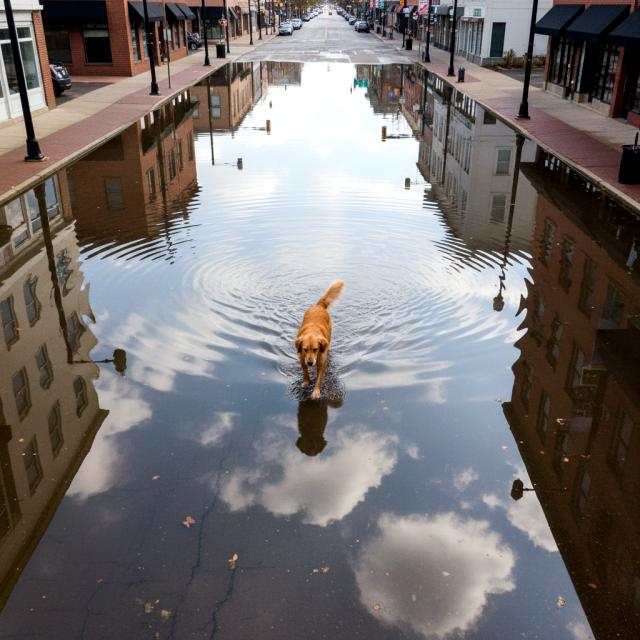dog: (282, 276, 358, 404)
